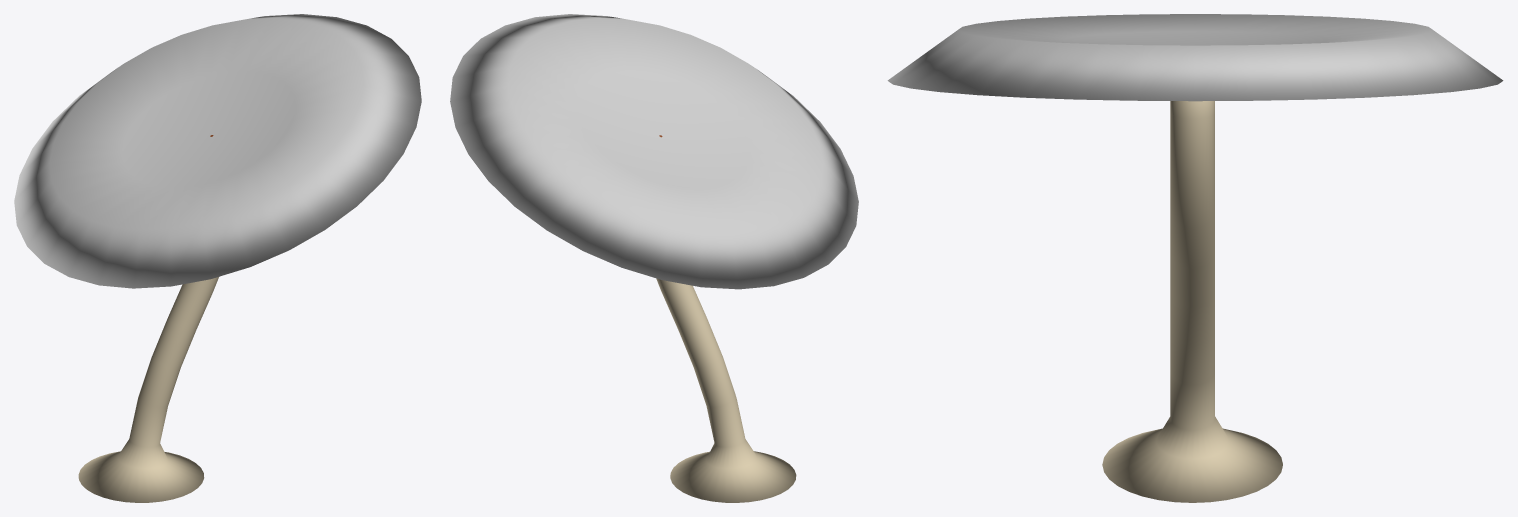
File: champignon004.fbx
The picture shows the model from 3 angles, left to right: view 1: azimuth 30°, elevation 25°; view 2: azimuth 150°, elevation 25°; view 3: azimuth 270°, elevation 25°; orthographic projection. The views are drawn at different scales.
Visible parts, largest first — view 1: Cylinder_001; view 2: Cylinder_001; view 3: Cylinder_001.
Part boxes in pixels (x1=…): Cylinder_001: x1=14, y1=14, x2=421, y2=502; Cylinder_001: x1=450, y1=14, x2=858, y2=502; Cylinder_001: x1=887, y1=14, x2=1503, y2=502.
Size of the model in its own units: 127 by 137 by 136.
